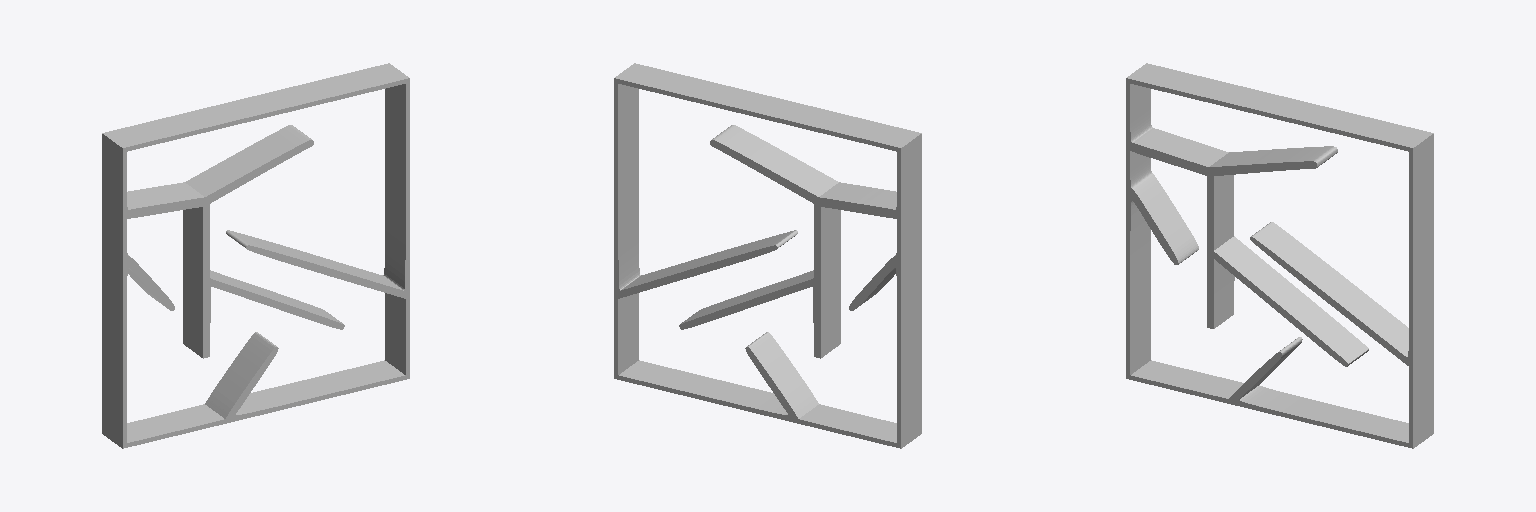
Rendered from maze_hard.obj.
3 views of the same model, side by side, from view 1: azimuth 30°, elevation 25°; view 2: azimuth 150°, elevation 25°; view 3: azimuth 330°, elevation 25° (orthographic).
Parts seen in each view (by area): view 1: Curve_mesh_Curve.044; view 2: Curve_mesh_Curve.044, Curve_Curve.044; view 3: Curve_mesh_Curve.044.
Boxes of the visible parts, x1=… form: Curve_mesh_Curve.044: x1=102, y1=63, x2=409, y2=448; Curve_mesh_Curve.044: x1=614, y1=63, x2=921, y2=448; Curve_Curve.044: x1=614, y1=80, x2=900, y2=447; Curve_mesh_Curve.044: x1=1126, y1=63, x2=1433, y2=448.
Size of the model in its own units: 0.0249 by 0.0249 by 0.0031.